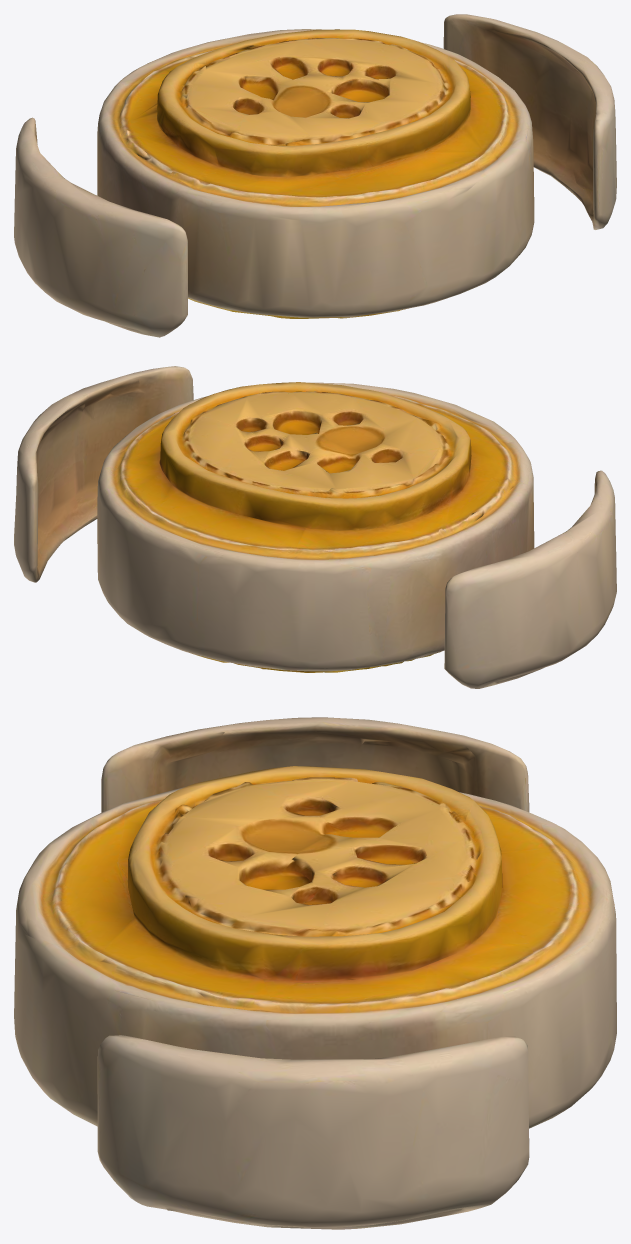
The model's file is space-coin.glb.
3 renders of one model, top to bottom at view 1: azimuth 30°, elevation 25°; view 2: azimuth 150°, elevation 25°; view 3: azimuth 270°, elevation 25°, orthographic. The views are drawn at different scales.
Parts seen in each view (by area): view 1: Mesh_0; view 2: Mesh_0; view 3: Mesh_0.
Boxes of the visible parts, <box> form: Mesh_0: <box>14,14,616,337</box>; Mesh_0: <box>14,366,616,688</box>; Mesh_0: <box>14,717,616,1229</box>.
Size of the model in its own units: 2 by 0.5536 by 1.4.
Materials: 1 (1 with a texture image).
